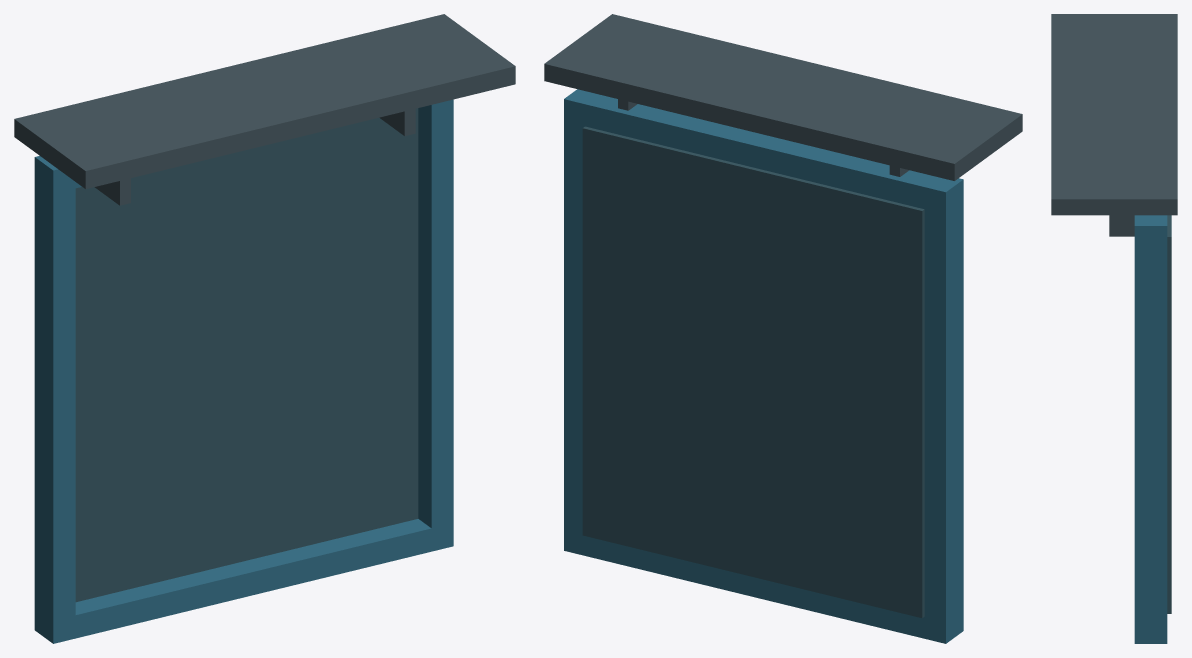
The model's file is window_25.glb.
3 renders of one model, left to right at view 1: azimuth 30°, elevation 25°; view 2: azimuth 150°, elevation 25°; view 3: azimuth 270°, elevation 25°, orthographic. The views are drawn at different scales.
Visible parts, largest first — view 1: window_25; view 2: window_25; view 3: window_25.
Part boxes in pixels (left/top/right/bottom): window_25: left=14, top=14, right=515, bottom=643; window_25: left=544, top=14, right=1022, bottom=643; window_25: left=1051, top=14, right=1177, bottom=643.
Size of the model in its own units: 1.74 by 1.98 by 0.5.
